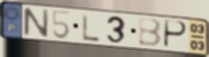3: (105, 15, 130, 46)
5: (51, 9, 72, 41)
B: (137, 17, 164, 48)
L: (81, 12, 101, 43)
N: (22, 7, 50, 39)
P: (162, 19, 189, 50)
